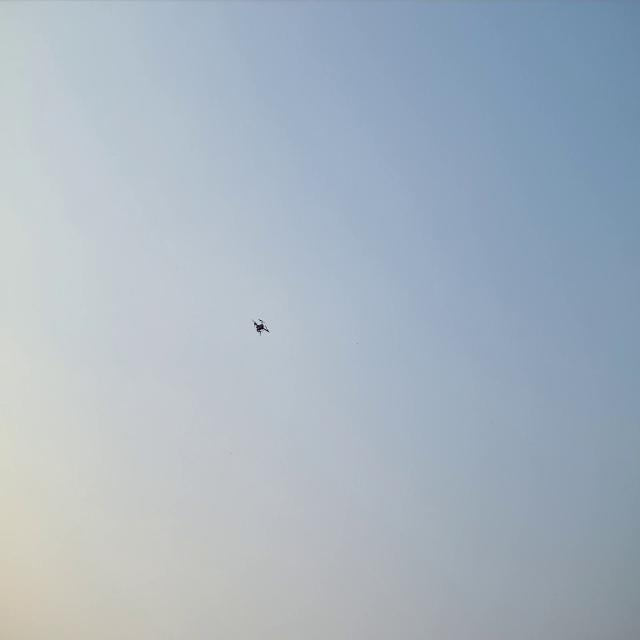UAV: (251, 316, 270, 341)
